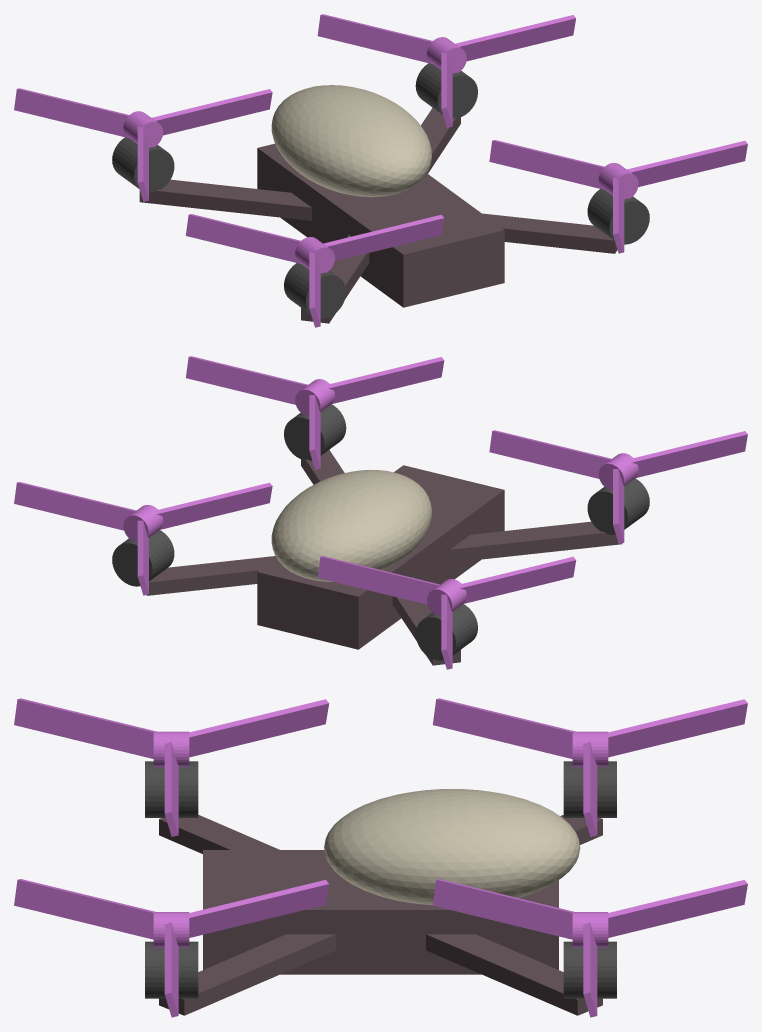
Rendered from Aero Elite Racing.glb.
3 renders of one model, top to bottom at view 1: azimuth 30°, elevation 25°; view 2: azimuth 150°, elevation 25°; view 3: azimuth 270°, elevation 25°, orthographic. The views are drawn at different scales.
Visible parts, largest first — view 1: frame_body, canopy, prop_1, prop_0, prop_2, prop_3, arm_3, arm_0, motor_2, motor_1, motor_0, motor_3 (+2 smaller); view 2: frame_body, canopy, prop_2, prop_0, prop_3, prop_1, arm_2, arm_1, motor_3, motor_0, motor_1, motor_2 (+2 smaller); view 3: canopy, frame_body, prop_3, prop_1, prop_0, prop_2, arm_1, arm_0, arm_2, motor_0, motor_1, motor_2 (+2 smaller).
Part boxes in pixels (x1=…): frame_body: x1=257, y1=143, x2=504, y2=307; canopy: x1=271, y1=85, x2=431, y2=197; prop_1: x1=317, y1=14, x2=575, y2=127; prop_0: x1=489, y1=140, x2=747, y2=253; prop_2: x1=185, y1=214, x2=444, y2=327; prop_3: x1=14, y1=88, x2=272, y2=201; arm_3: x1=139, y1=179, x2=311, y2=220; arm_0: x1=482, y1=213, x2=617, y2=253; motor_2: x1=284, y1=263, x2=346, y2=318; motor_1: x1=415, y1=63, x2=477, y2=118; motor_0: x1=587, y1=189, x2=649, y2=244; motor_3: x1=112, y1=137, x2=174, y2=192; frame_body: x1=257, y1=465, x2=504, y2=649; canopy: x1=271, y1=469, x2=431, y2=581; prop_2: x1=489, y1=430, x2=747, y2=543; prop_0: x1=186, y1=356, x2=444, y2=469; prop_3: x1=317, y1=556, x2=576, y2=669; prop_1: x1=14, y1=482, x2=272, y2=595; arm_2: x1=450, y1=521, x2=622, y2=562; arm_1: x1=146, y1=556, x2=276, y2=595; motor_3: x1=415, y1=604, x2=477, y2=660; motor_0: x1=284, y1=404, x2=346, y2=460; motor_1: x1=112, y1=530, x2=174, y2=586; motor_2: x1=587, y1=478, x2=649, y2=534; canopy: x1=324, y1=789, x2=580, y2=905; frame_body: x1=203, y1=850, x2=558, y2=974; prop_3: x1=432, y1=698, x2=747, y2=836; prop_1: x1=432, y1=879, x2=747, y2=1017; prop_0: x1=14, y1=879, x2=329, y2=1017; prop_2: x1=14, y1=698, x2=329, y2=836; arm_1: x1=426, y1=934, x2=602, y2=1015; arm_0: x1=159, y1=934, x2=335, y2=1015; arm_2: x1=159, y1=815, x2=279, y2=853; motor_0: x1=145, y1=941, x2=198, y2=998; motor_1: x1=563, y1=941, x2=616, y2=998; motor_2: x1=145, y1=761, x2=198, y2=817.
Bounding box in the file's own units: 0.1967 × 0.0444 × 0.2061.
